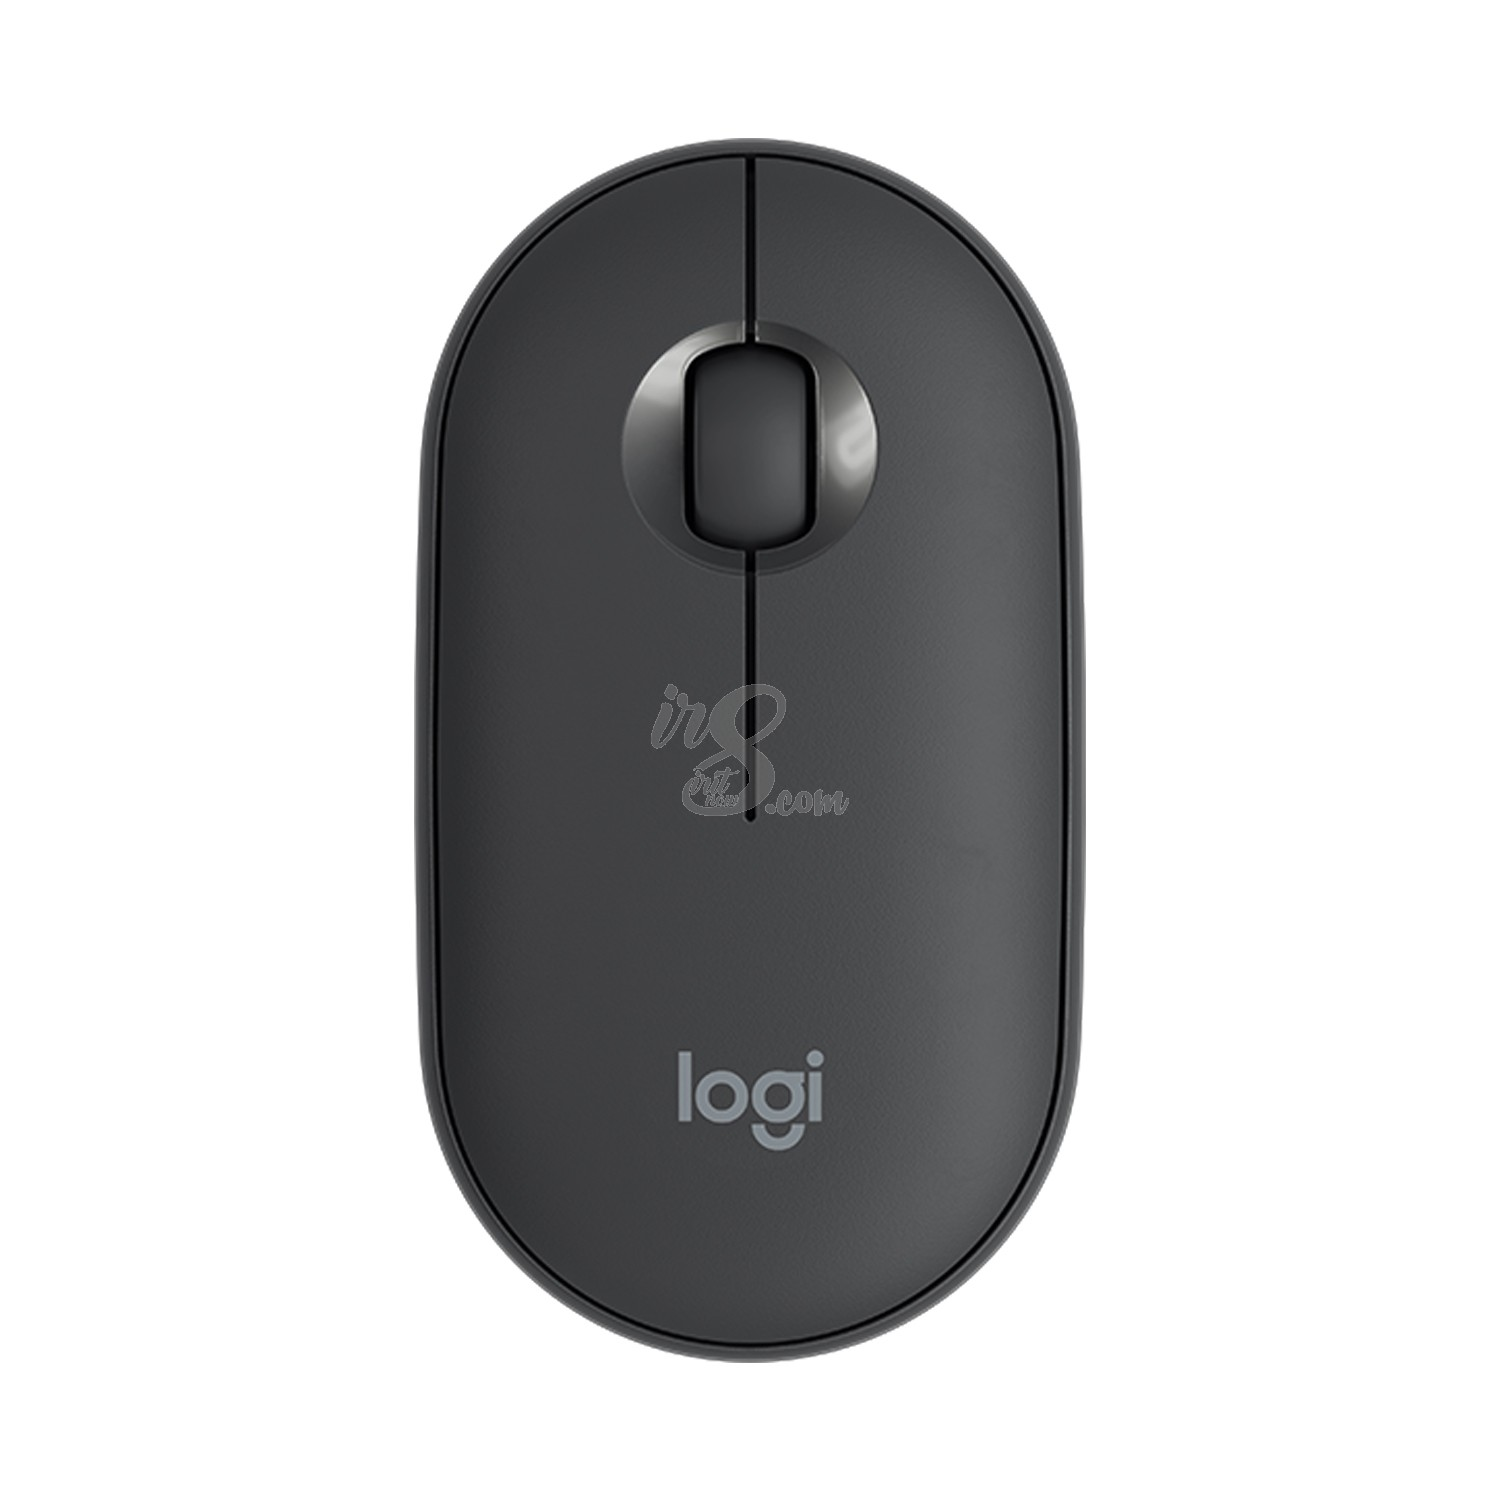Mouse: (390, 124, 1096, 1396)
